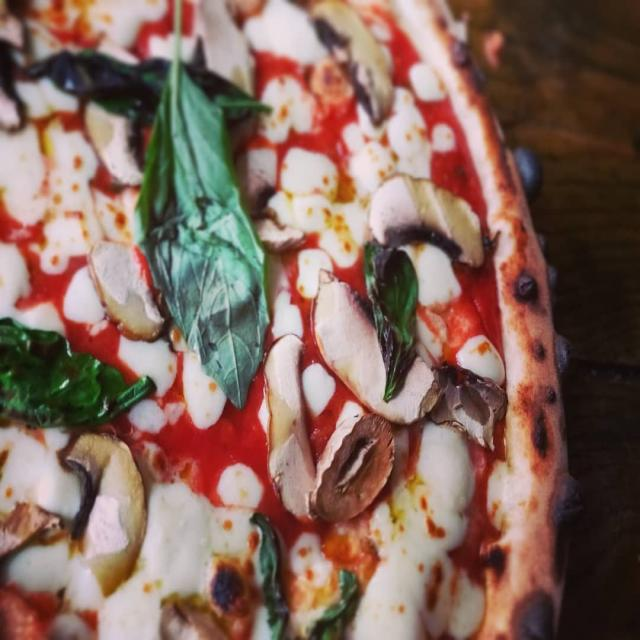mushrooms: (2, 428, 154, 599), (311, 270, 439, 422), (369, 167, 483, 271), (260, 331, 324, 516), (310, 1, 399, 117), (309, 405, 396, 523), (88, 235, 168, 346), (430, 357, 508, 451), (82, 99, 143, 178), (253, 211, 301, 253)
